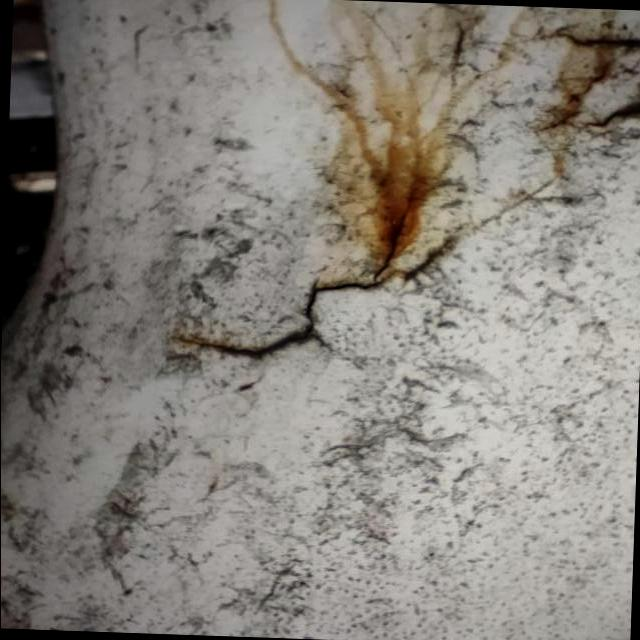defect: (167, 194, 416, 363)
